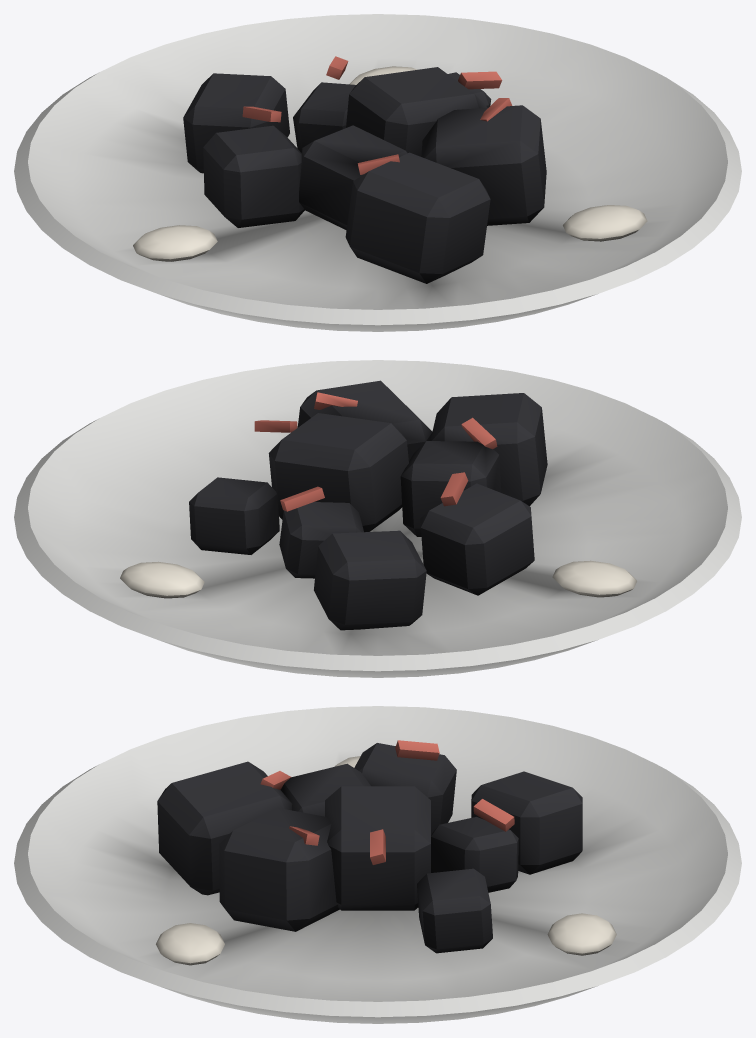
The model's file is meal_burnt.glb.
The picture shows the model from 3 angles, top to bottom: view 1: azimuth 30°, elevation 25°; view 2: azimuth 150°, elevation 25°; view 3: azimuth 270°, elevation 25°; orthographic projection.
Visible parts, largest first — view 1: PART; view 2: PART; view 3: PART.
Part boxes in pixels (x1,y1,x2,y2): PART: (14,14,741,331); PART: (14,360,741,677); PART: (14,706,741,1023).
Bounding box in the file's own units: 0.21 × 0.0434 × 0.21.
